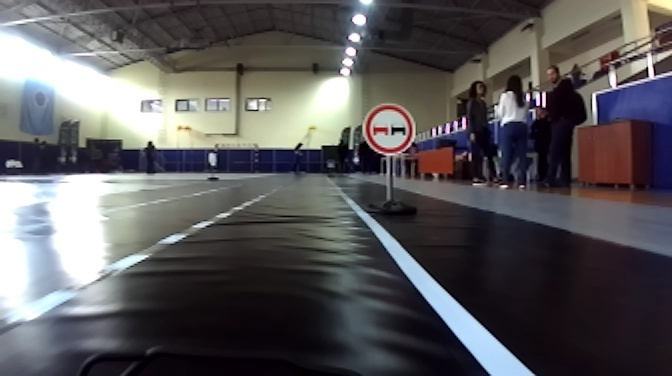sollama_yasak: (363, 101, 415, 155)
